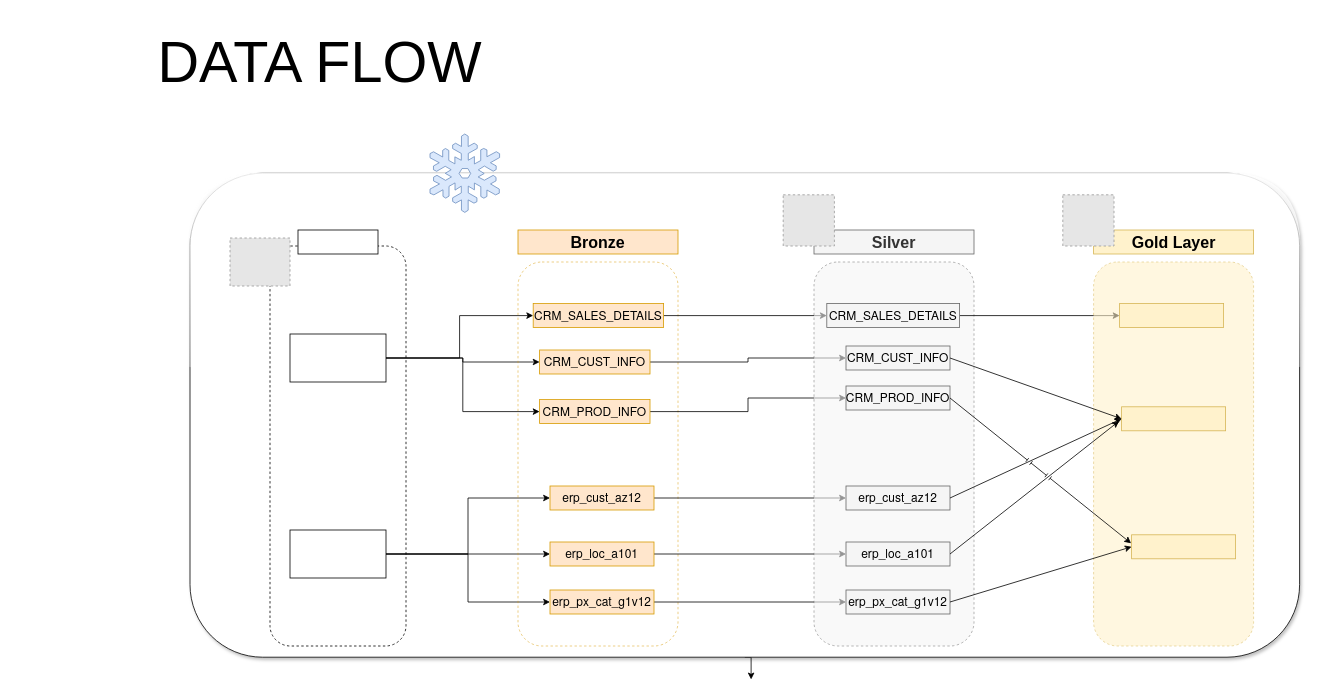
Some shapes in this 1318 by 700 pixel diagram are drawn without their labels. Grey dashed boxes stand in for pictures. The shapes that lost their labels are listed below. From the top down, each one's centre as x and y in pixels, then its label:
the point at 337,241: SOURCES
the point at 1171,315: fact_sales
the point at 337,357: CRM DATA
the point at 1173,418: dim_customer
the point at 337,553: ERP DATA
the point at 1183,546: dim_product
